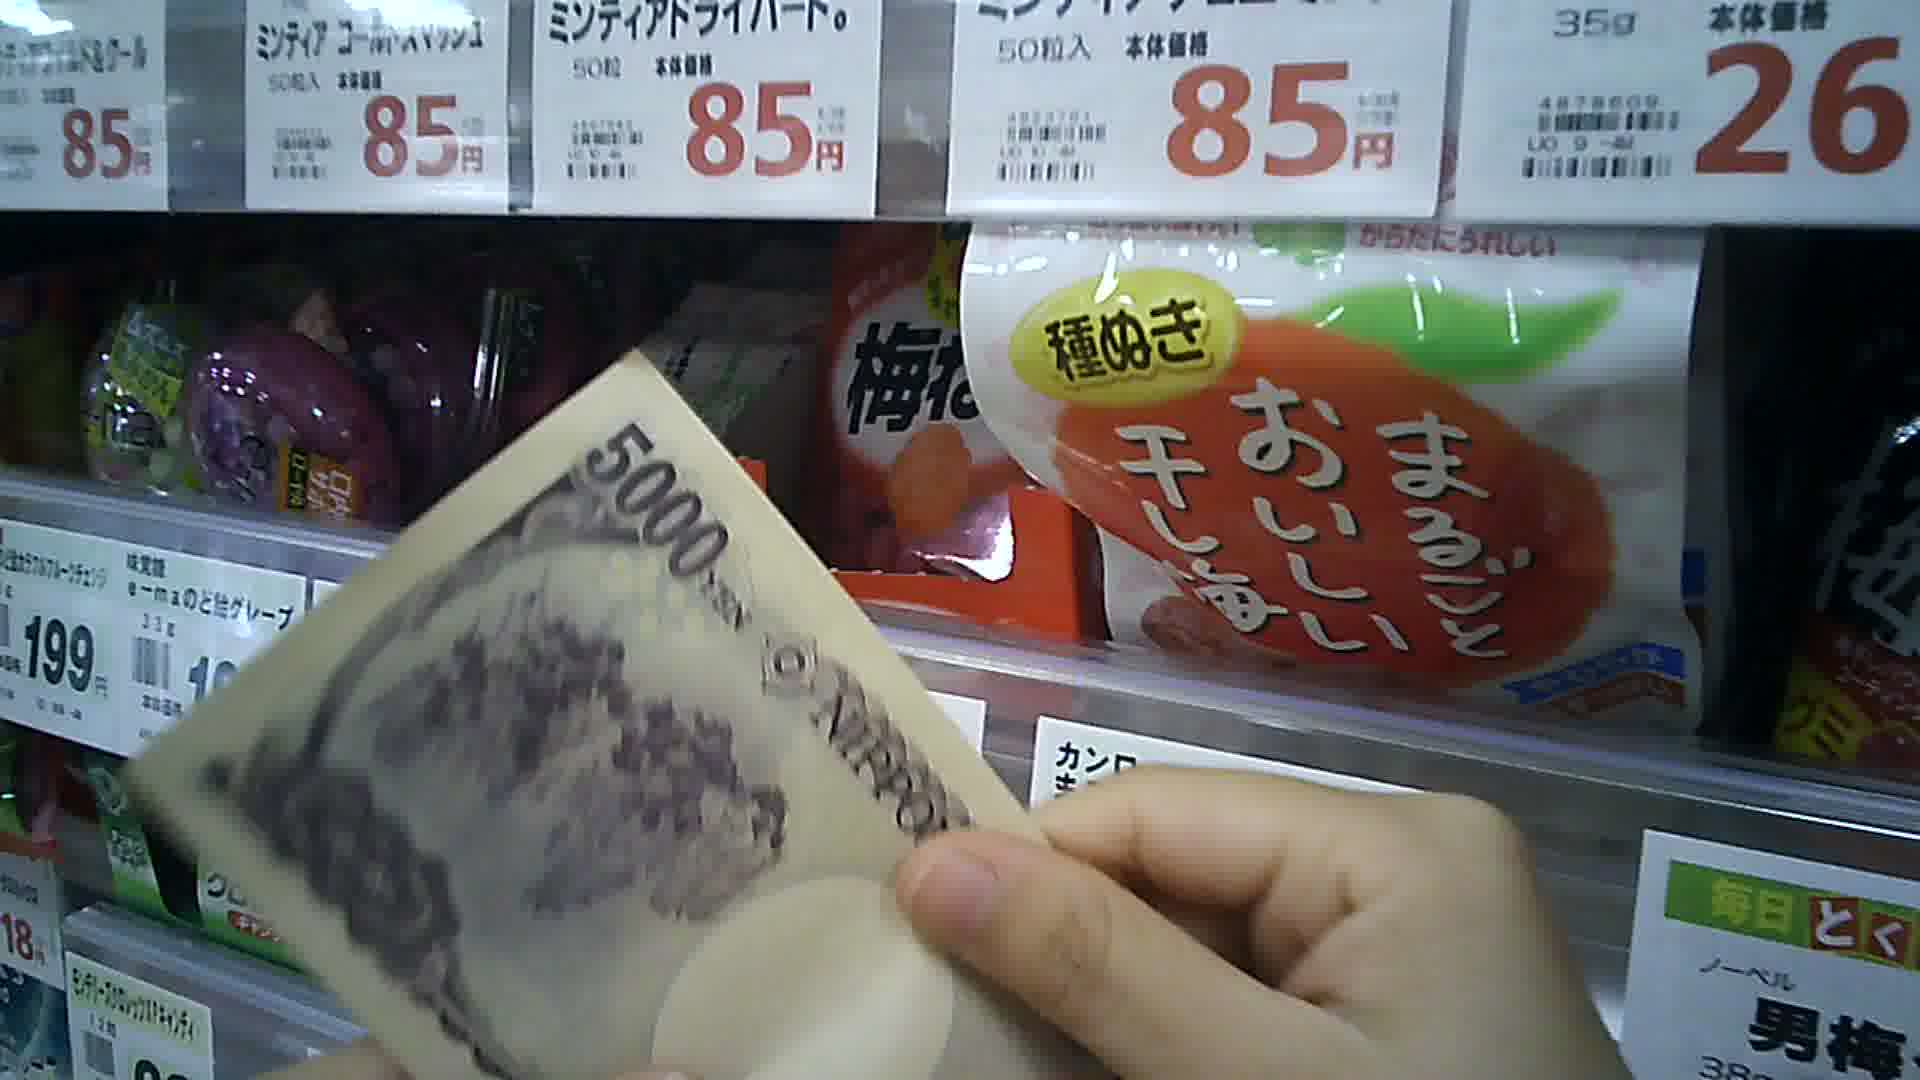5,000 Yen: (141, 328, 1075, 1077)
